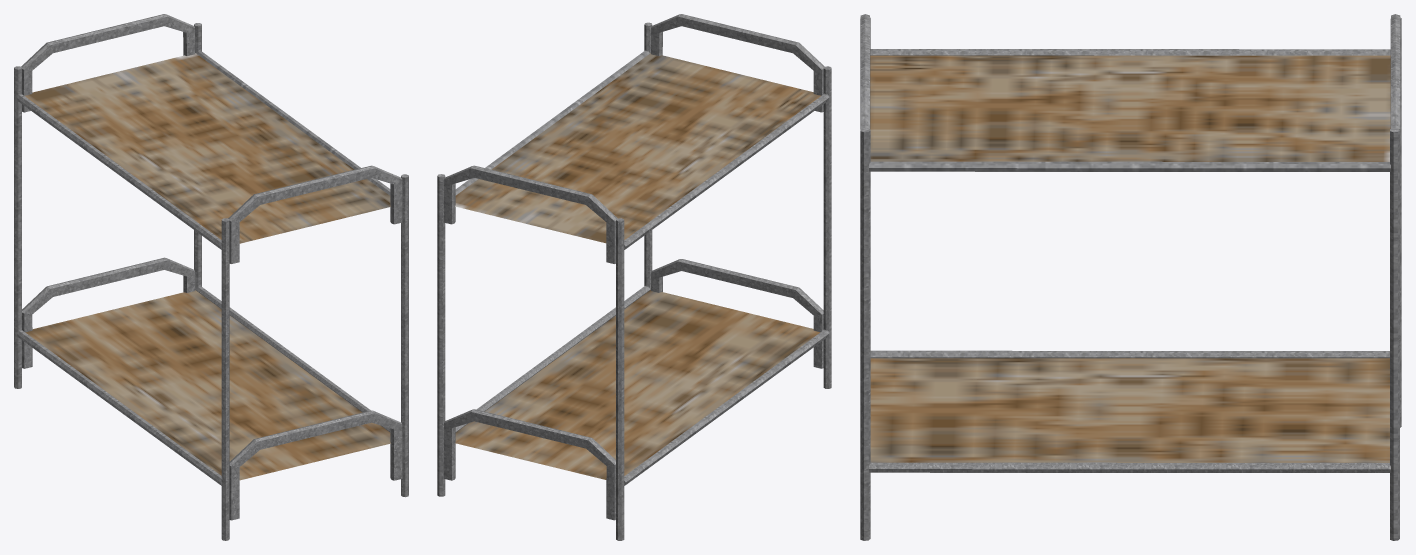
The model's file is кровать.fbx.
The picture shows the model from 3 angles, left to right: view 1: azimuth 30°, elevation 25°; view 2: azimuth 150°, elevation 25°; view 3: azimuth 270°, elevation 25°; orthographic projection. The views are drawn at different scales.
Parts seen in each view (by area): view 1: Плоскость.001, Плоскость, Torus, Torus.002, Цилиндр, Torus.001, Torus.003, Цилиндр.003, Цилиндр.001, Цилиндр.007, Цилиндр.005, Цилиндр.004 (+2 smaller); view 2: Плоскость.001, Плоскость, Torus.001, Torus.003, Цилиндр.003, Torus, Цилиндр, Torus.002, Цилиндр.002, Цилиндр.005, Цилиндр.007, Цилиндр.004 (+2 smaller); view 3: Плоскость.001, Плоскость, Цилиндр.006, Цилиндр.004, Цилиндр.001, Цилиндр.005, Цилиндр.002, Цилиндр.007, Torus.003, Torus.002, Цилиндр.003.
Boxes of the visible parts, x1,y1,x2,y2 form: Плоскость.001: (25,53,390,243); Плоскость: (25,290,390,480); Torus: (229,410,402,520); Torus.002: (228,165,402,263); Цилиндр: (221,218,229,540); Torus.001: (22,257,195,368); Torus.003: (21,14,194,112); Цилиндр.003: (14,66,21,388); Цилиндр.001: (401,174,408,497); Цилиндр.007: (17,94,221,249); Цилиндр.005: (17,330,221,485); Цилиндр.004: (196,286,390,432); Плоскость.001: (455,53,820,243); Плоскость: (455,290,819,479); Torus.001: (443,409,615,520); Torus.003: (443,165,617,263); Цилиндр.003: (616,218,624,540); Torus: (651,259,823,368); Цилиндр: (823,66,831,388); Torus.002: (651,14,824,112); Цилиндр.002: (437,174,445,496); Цилиндр.005: (624,329,829,485); Цилиндр.007: (624,93,829,249); Цилиндр.004: (455,286,650,432); Плоскость.001: (870,55,1390,161); Плоскость: (870,358,1389,462); Цилиндр.006: (869,161,1390,171); Цилиндр.004: (869,462,1390,472); Цилиндр.001: (860,128,870,540); Цилиндр.005: (870,350,1389,358); Цилиндр.002: (1390,128,1399,540); Цилиндр.007: (870,49,1390,55); Torus.003: (1390,14,1400,183); Torus.002: (860,14,870,129); Цилиндр.003: (1400,17,1401,427).
Bounding box in the file's own units: 104 × 179 × 204.
Materials: 13 (13 with a texture image).
